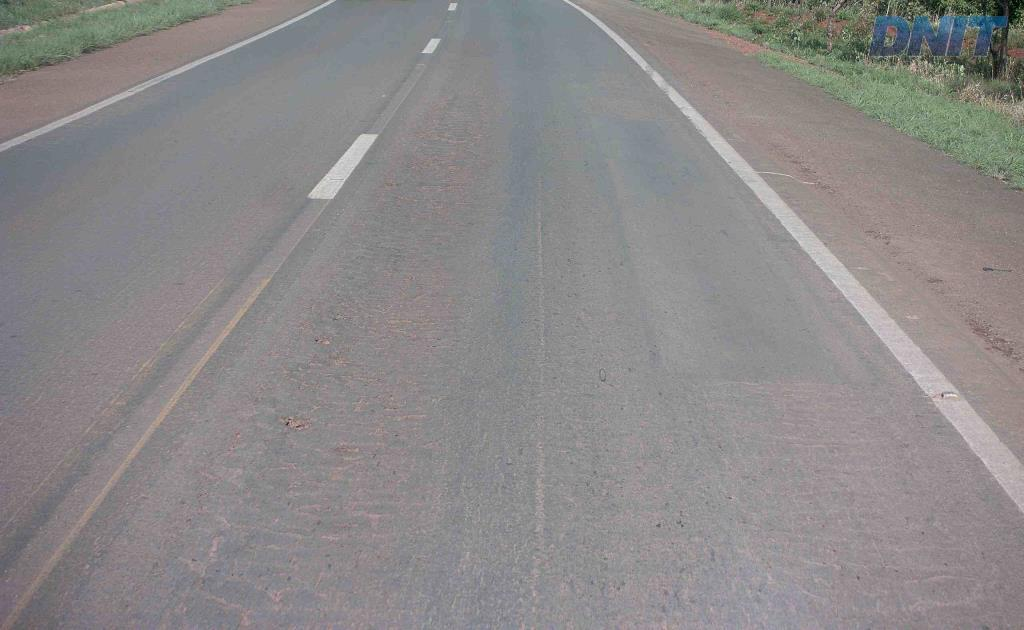pothole: (268, 405, 319, 438)
